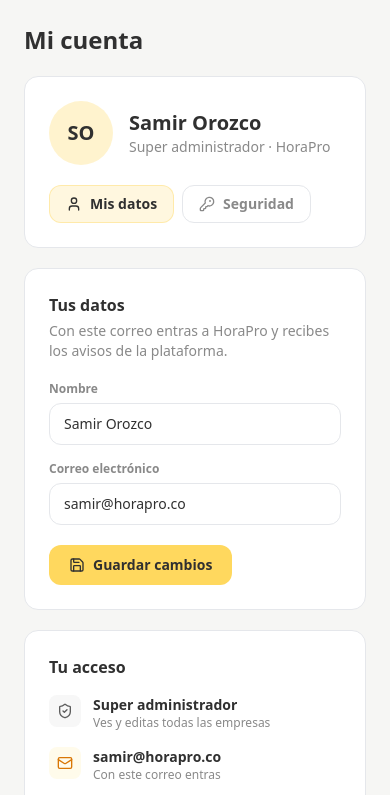
Test: AdminCuenta › no manda nada al servidor si las dos contraseñas nuevas no coinciden
The image size is (390, 795).
Click the button "Seguridad": (247, 204) 182,185 -> 311,223
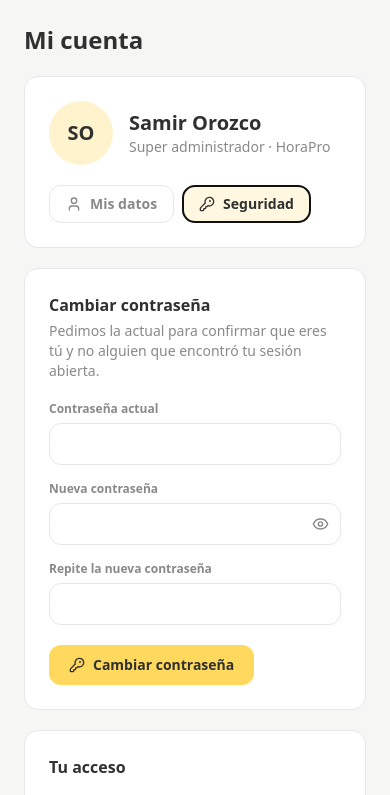
In the password field labelled "Contraseña actual": (195, 444) 49,423 -> 341,465, type "laDeAhora"
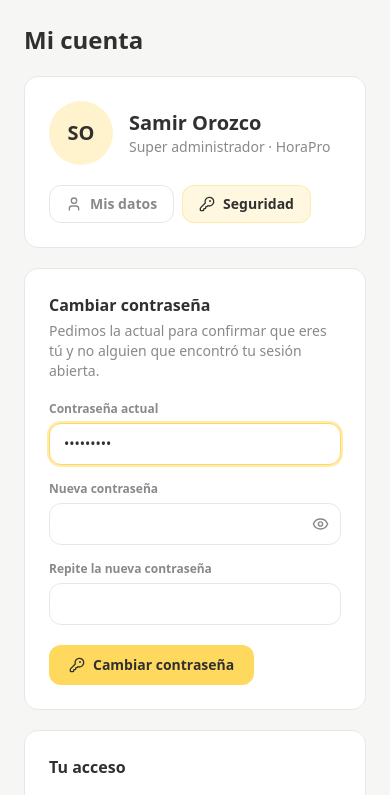
In the password field labelled "Nueva contraseña": (195, 524) 49,503 -> 341,545, type "nuevaClave1"
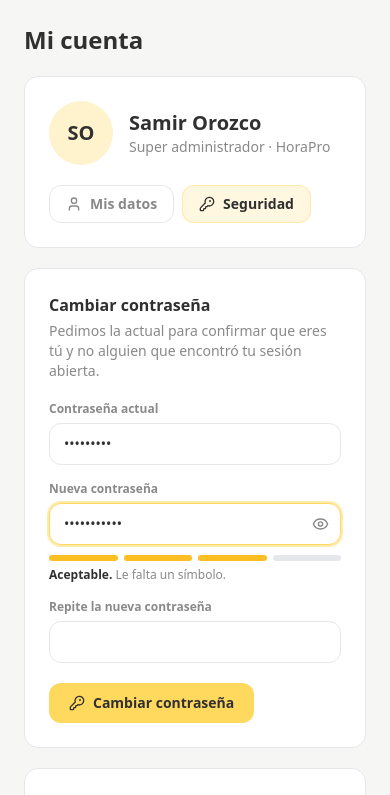
In the password field labelled "Repite la nueva contraseña": (195, 642) 49,621 -> 341,663, type "otraCosa9"
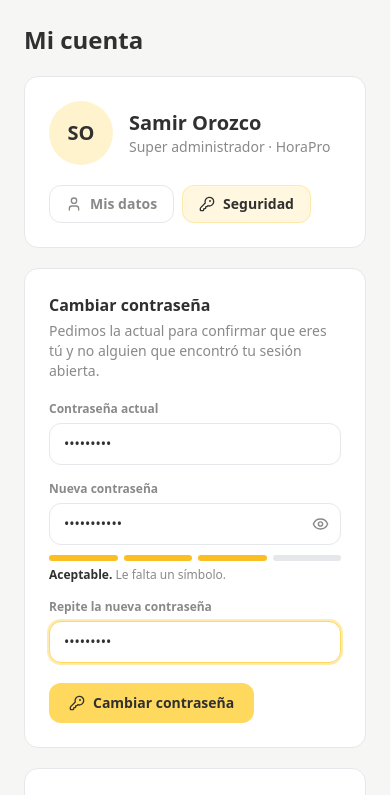
Click the button "Cambiar contraseña": (152, 703) 49,683 -> 254,723
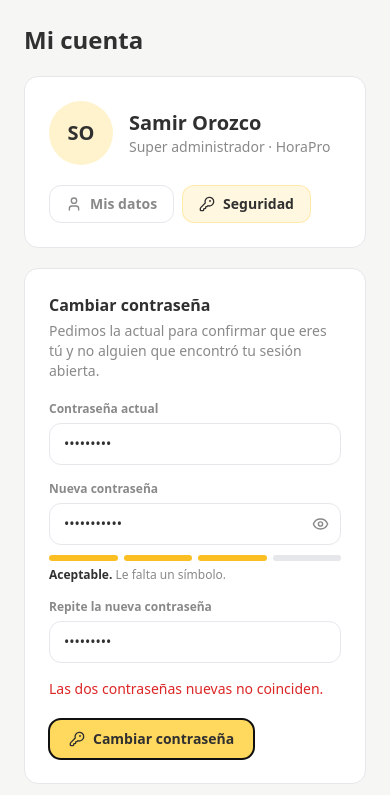
Expected: the text "Las dos contraseñas nuevas no coinciden." is shown, 49,679 -> 341,699
